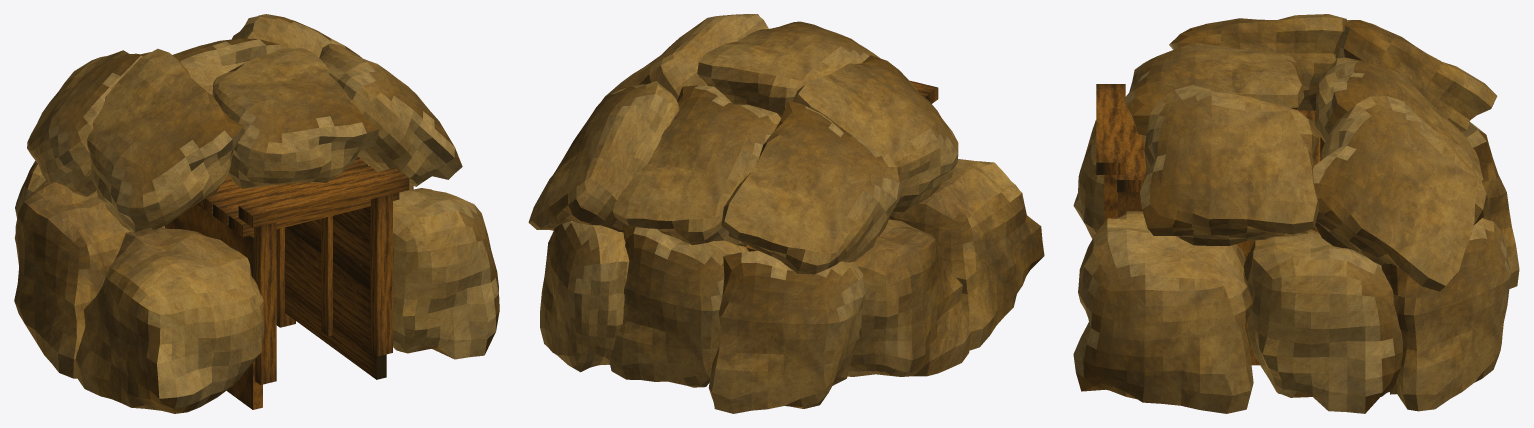
The model's file is mine.fbx.
3 views of the same model, side by side, from view 1: azimuth 30°, elevation 25°; view 2: azimuth 150°, elevation 25°; view 3: azimuth 270°, elevation 25° (orthographic). The views are drawn at different scales.
Visible parts, largest first — view 1: 큐브.081; view 2: 큐브.081; view 3: 큐브.081.
Boxes of the visible parts, x1,y1,x2,y2 form: 큐브.081: (14,14,499,413); 큐브.081: (528,14,1044,413); 큐브.081: (1073,14,1519,413).
Bounding box in the file's own units: 400 × 300 × 400.
